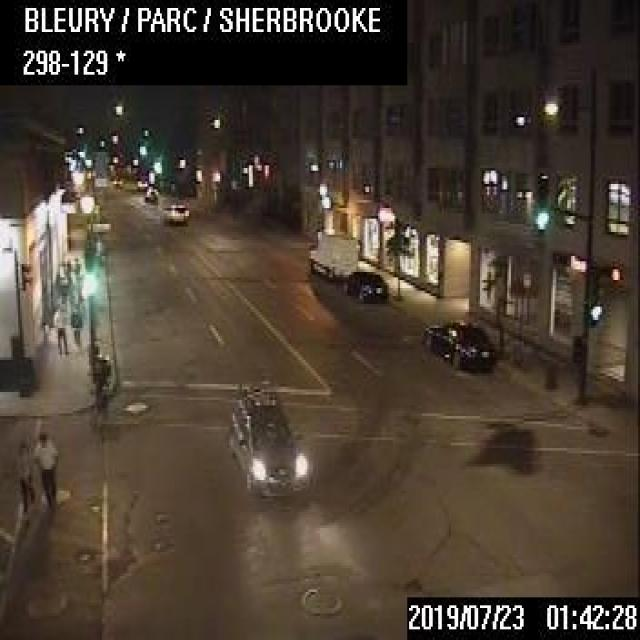pedestrian: (33, 429, 58, 508), (14, 443, 31, 509), (55, 304, 68, 355), (69, 302, 81, 348)
vehicle: (228, 389, 308, 499), (420, 315, 494, 371), (306, 227, 356, 279), (341, 269, 387, 301), (162, 200, 188, 222), (143, 184, 157, 200)
